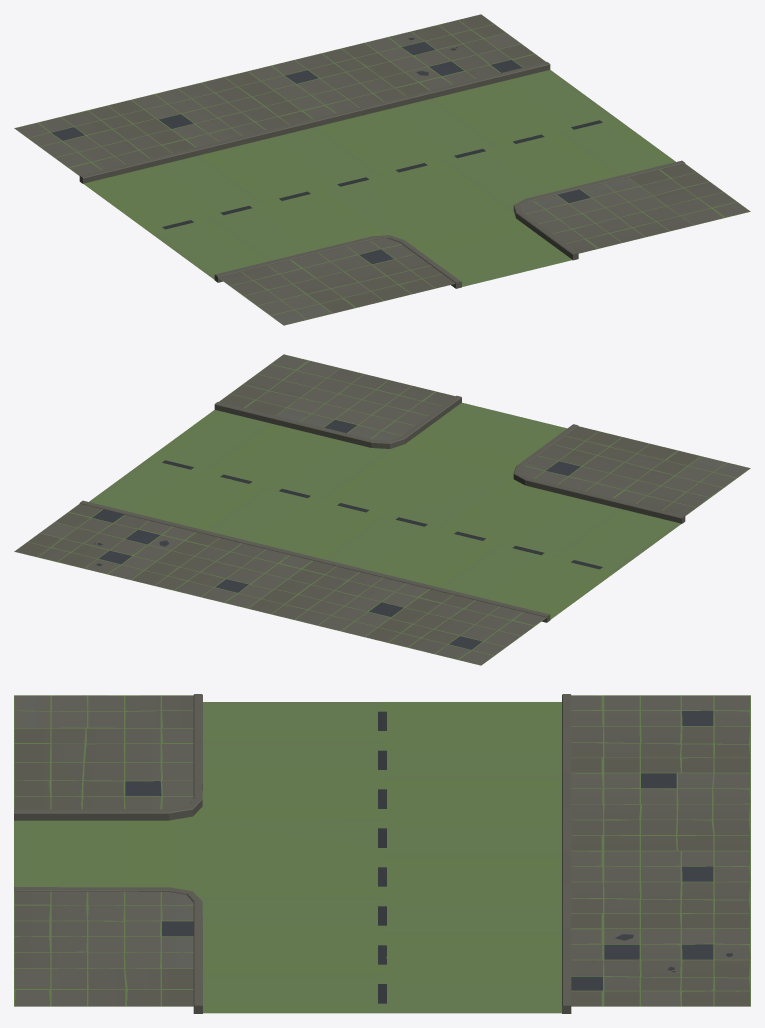
File: Road_05.fbx
The picture shows the model from 3 angles, top to bottom: view 1: azimuth 30°, elevation 25°; view 2: azimuth 150°, elevation 25°; view 3: azimuth 270°, elevation 25°; orthographic projection. The views are drawn at different scales.
Visible parts, largest first — view 1: Road_05; view 2: Road_05; view 3: Road_05.
Part boxes in pixels (x1=…): Road_05: x1=14, y1=14, x2=750, y2=325; Road_05: x1=14, y1=354, x2=750, y2=665; Road_05: x1=14, y1=694, x2=750, y2=1013.
Size of the model in its own units: 12 by 0.15 by 12.
